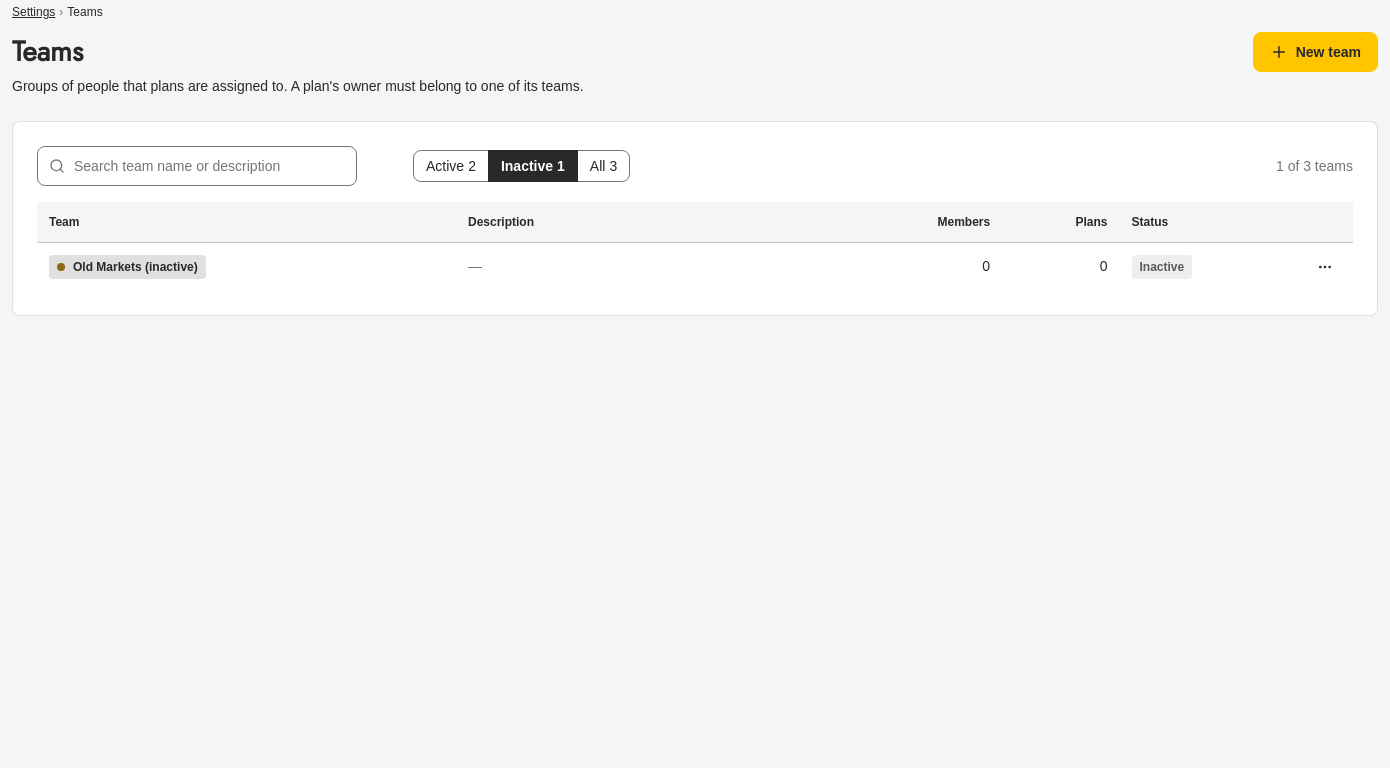
Test: TeamsPage (feature 003, US2): Delete, Set team inactive and Reactivate › reactivates an inactive team
This screenshot has width=1390, height=768.
Click the button named "Actions for Old Markets" at [1325, 266], box [1309,250,1341,282]
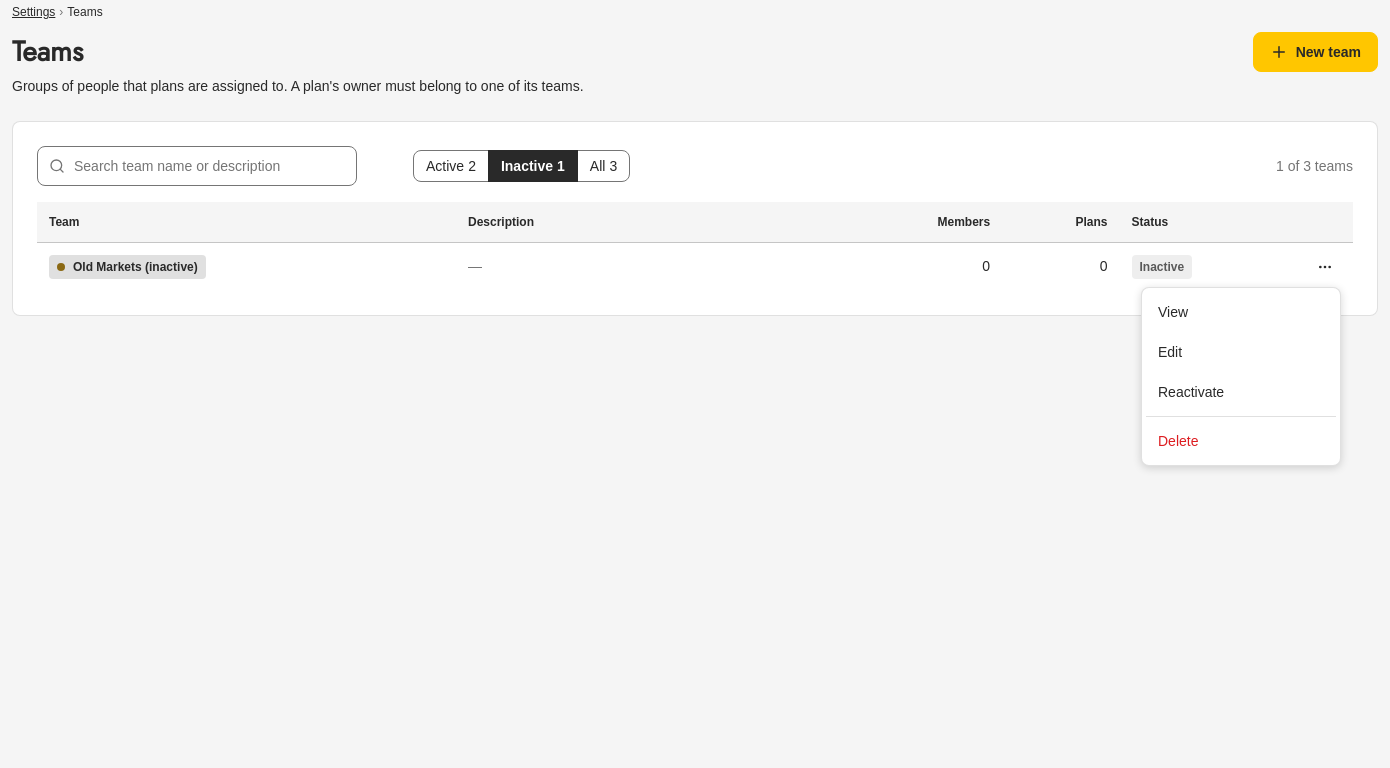
Click the menu item "Reactivate" at [1191, 392], box [1158,384,1224,400]
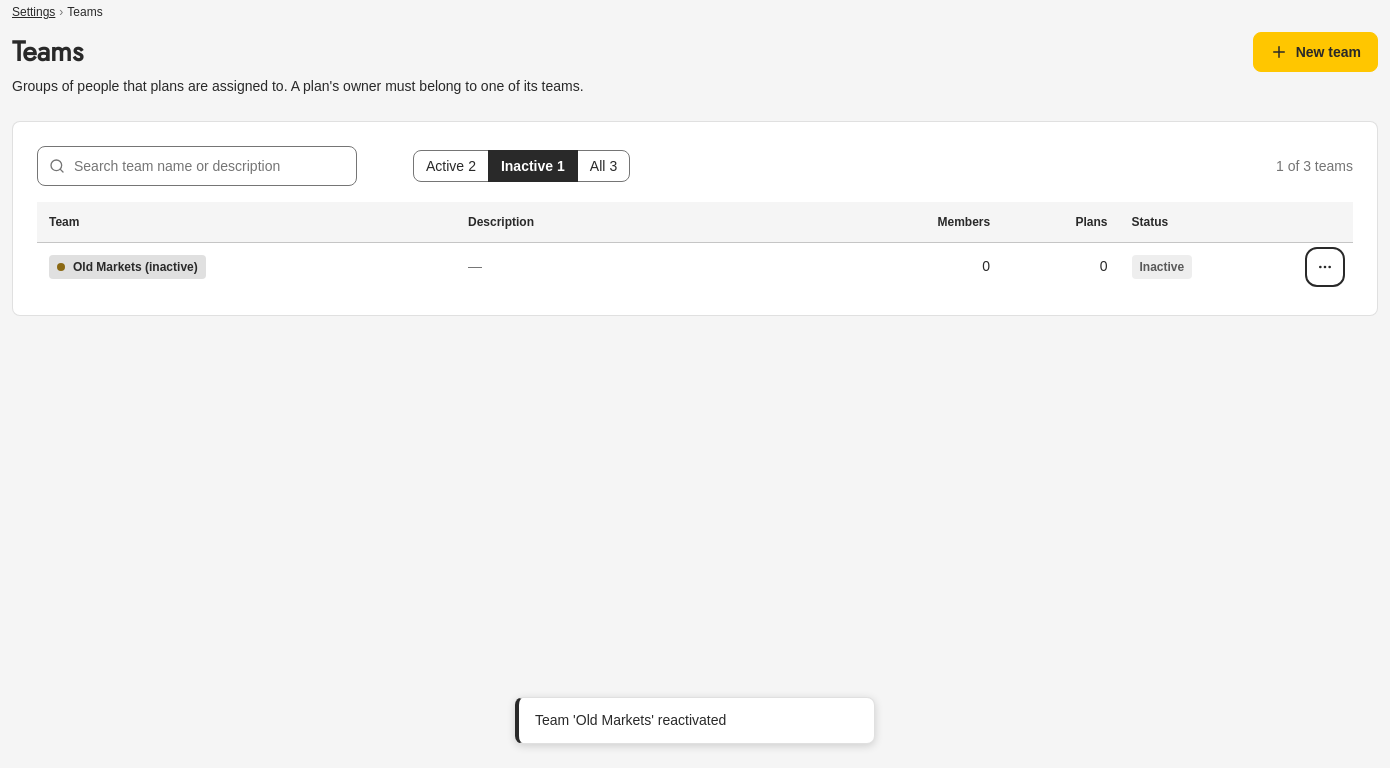
expect the text "Team 'Old Markets' reactivated" is shown: met, box [535,712,726,728]
